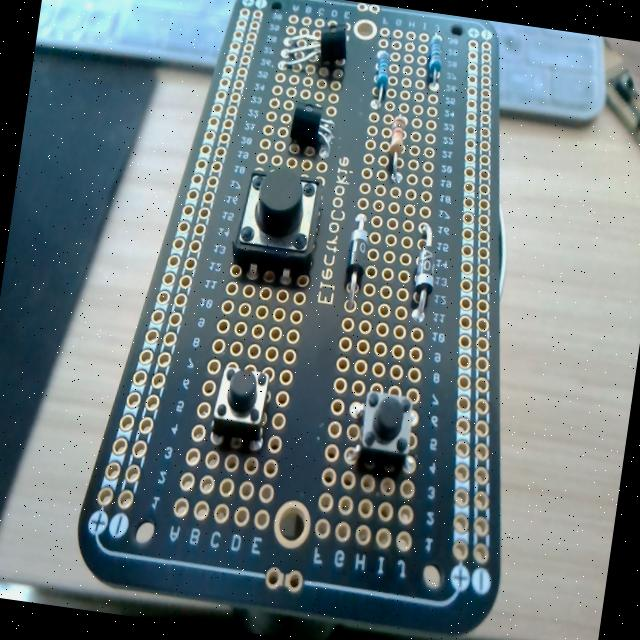diode: (406, 222, 442, 325), (340, 212, 372, 304)
resistor: (383, 112, 412, 185), (369, 48, 394, 110), (424, 33, 446, 89)
switch: (227, 160, 327, 285), (354, 386, 418, 474), (209, 363, 272, 450)
transistor: (284, 8, 358, 82), (286, 98, 340, 148)
